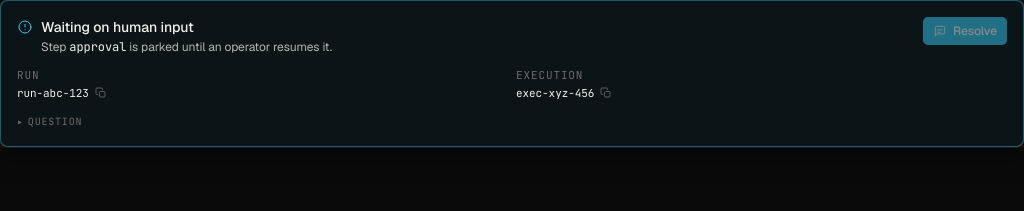
Test case: HumanInputGate › renders question content when expanded
Click the button with test id "human-input-gate-question-toggle".
click(50, 122)  # box [17,114,82,130]
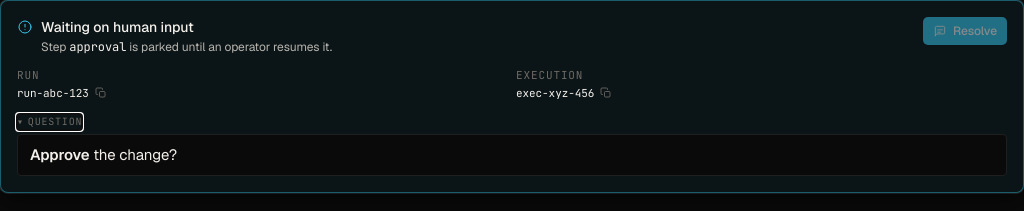
Check: the element with test id "human-input-gate-question" is shown, box [17,134,1007,176]
